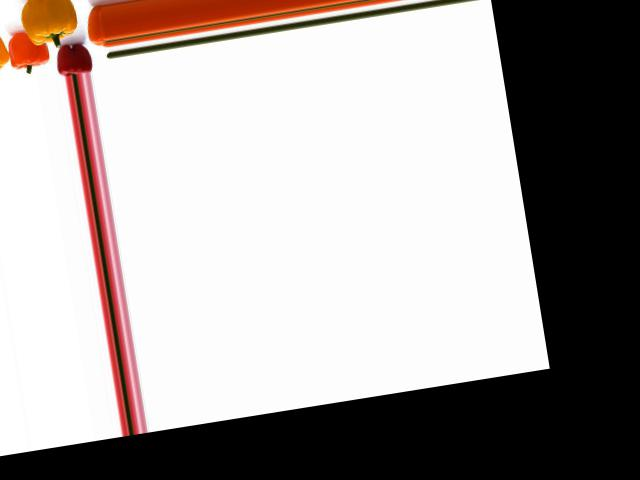bell_pepper: (81, 4, 109, 51)
